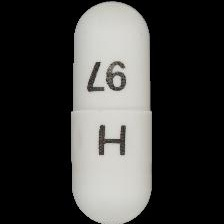64725-0544: (0, 0, 224, 224)
